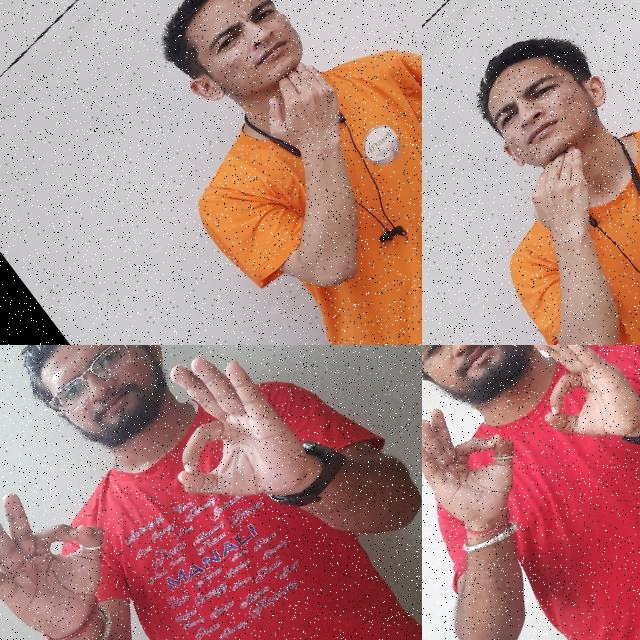Chin Flick: (120, 0, 389, 208), (436, 0, 640, 251)
Okay: (115, 345, 336, 558), (0, 450, 150, 640), (422, 380, 551, 553), (498, 345, 640, 472)
